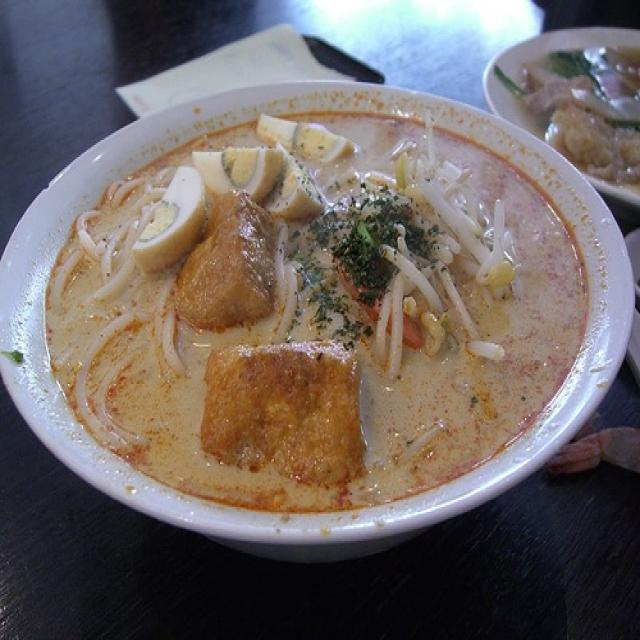面条主食: (18, 72, 619, 565)
